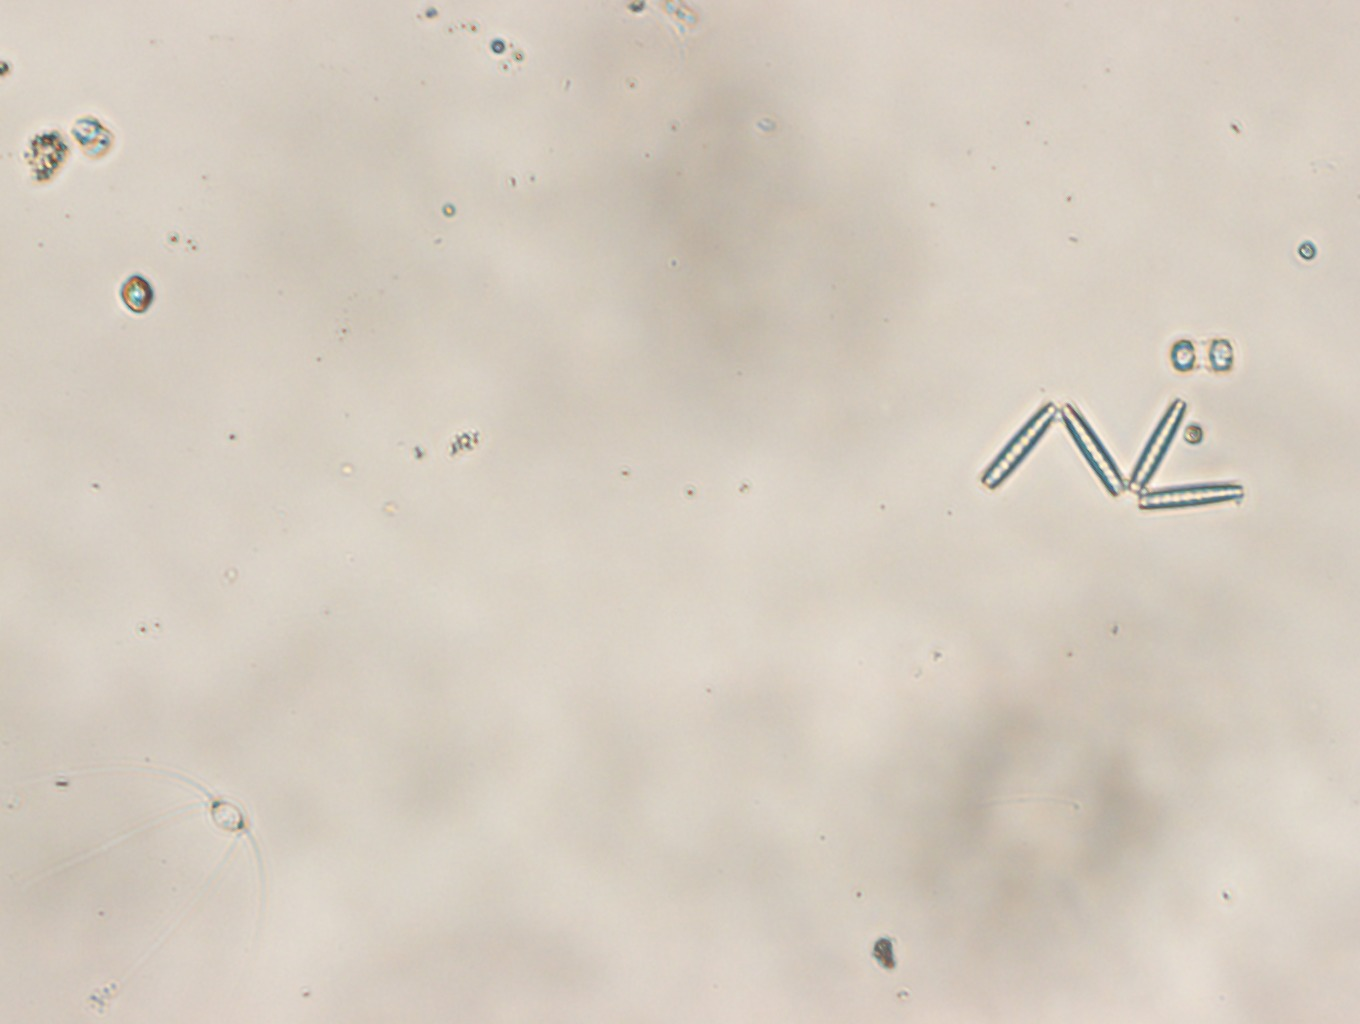thalassionema nitzschioides: (978, 399, 1243, 511)
